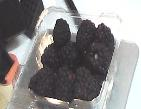berry: (56, 66, 80, 101), (87, 42, 113, 74), (75, 68, 100, 101), (31, 66, 56, 91), (63, 41, 84, 70), (76, 20, 95, 51), (96, 23, 115, 54), (45, 41, 64, 68), (54, 19, 70, 47), (38, 73, 56, 96), (93, 74, 105, 88)
